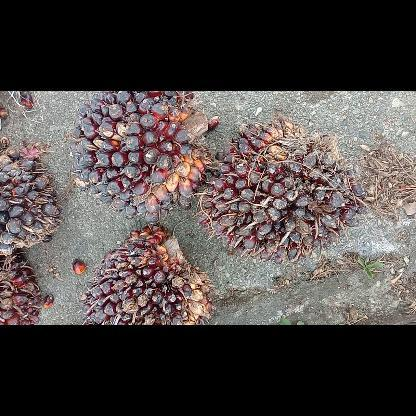TBS mentah: (200, 115, 366, 264), (70, 91, 218, 223), (82, 222, 214, 324), (0, 147, 61, 257)
